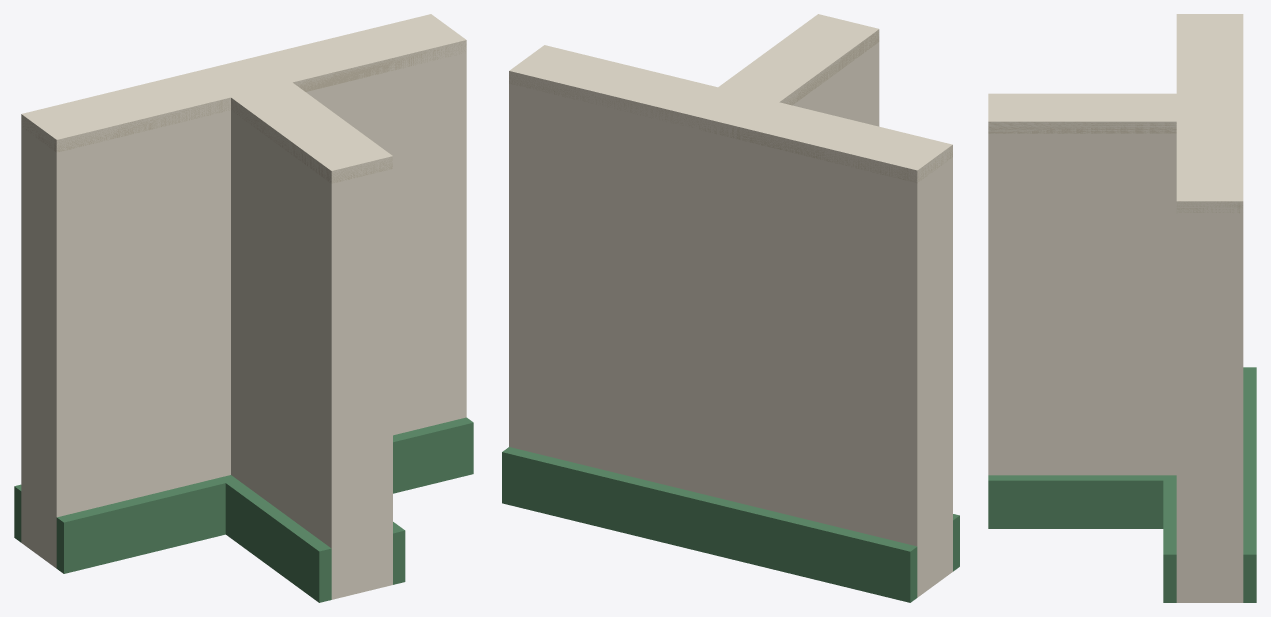
Rendered from partition-tee.glb.
The picture shows the model from 3 angles, left to right: view 1: azimuth 30°, elevation 25°; view 2: azimuth 150°, elevation 25°; view 3: azimuth 270°, elevation 25°; orthographic projection. The views are drawn at different scales.
Visible parts, largest first — view 1: partition-tee; view 2: partition-tee; view 3: partition-tee.
Part boxes in pixels (box(x1,y1,x2,y2)): partition-tee: box(14, 14, 473, 602); partition-tee: box(502, 14, 959, 602); partition-tee: box(988, 14, 1256, 602).
Size of the model in its own units: 1 by 1 by 0.605.
1 material, 1 textured.
